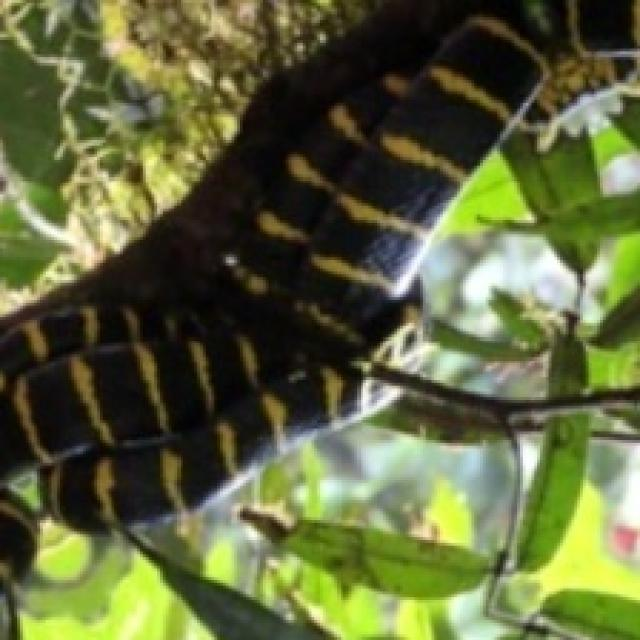mangrove cat snake: (0, 19, 540, 531)
